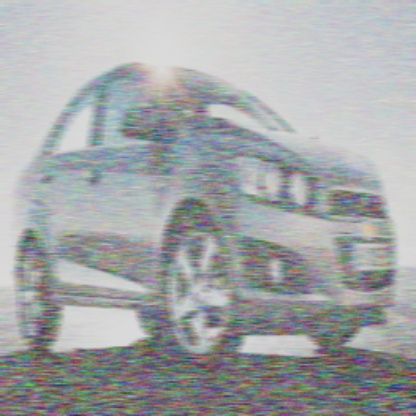Vehicle: (13, 60, 398, 356)
